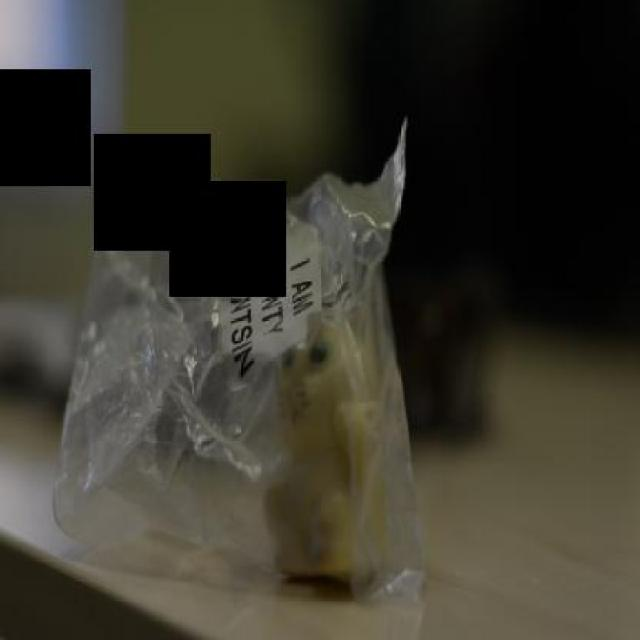plastic bag: (52, 118, 428, 610)
